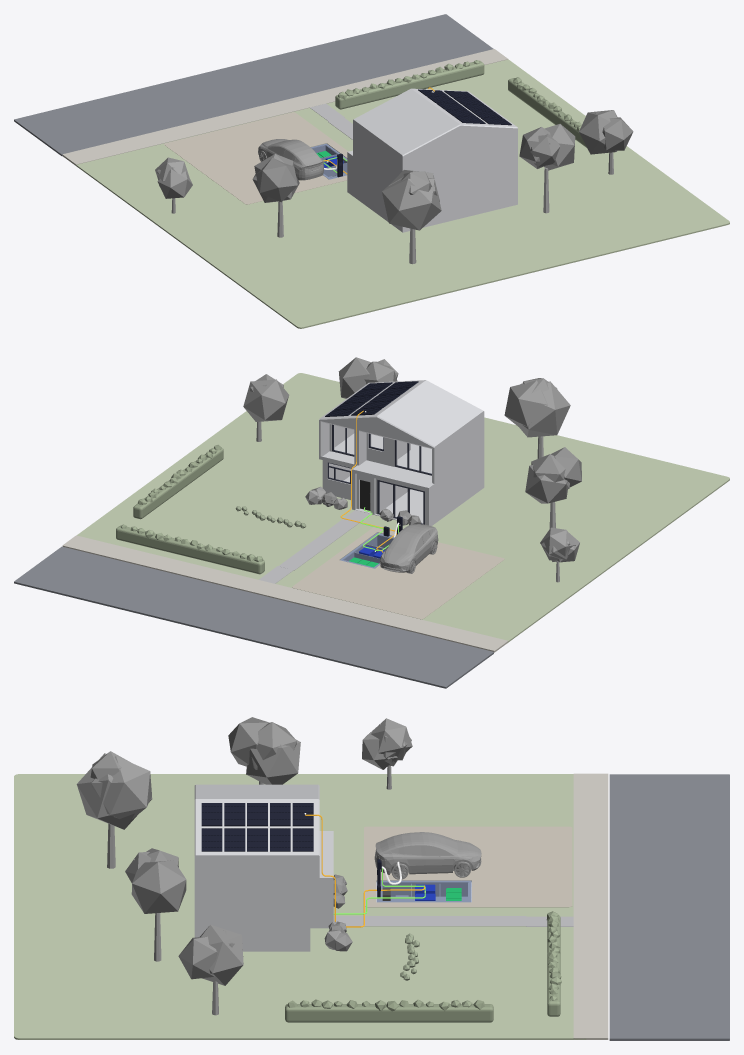
Rendered from sett-hero-particulieren.glb.
The picture shows the model from 3 angles, top to bottom: view 1: azimuth 30°, elevation 25°; view 2: azimuth 150°, elevation 25°; view 3: azimuth 270°, elevation 25°; orthographic projection. The views are drawn at different scales.
Visible parts, largest first — view 1: hero-particulieren, Muren_boven, Muren_beneden, tree_2, tree_1, tree_3, tree_0, car, tree_4; view 2: hero-particulieren, Muren_boven, Muren_beneden, tree_2, tree_0, car, tree_3, tree_1, Pathway, tree_4, Vloer; view 3: hero-particulieren, Muren_boven, Muren_beneden, tree_2, car, tree_0, tree_1, tree_3, Pathway, tree_4, BAK_met_RIBS, Extruded.016 (+4 smaller).
Part boxes in pixels (bbox=[...]): hero-particulieren: bbox=[14, 14, 729, 328]; Muren_boven: bbox=[353, 88, 517, 184]; Muren_beneden: bbox=[347, 150, 517, 232]; tree_2: bbox=[382, 170, 441, 264]; tree_1: bbox=[519, 124, 575, 213]; tree_3: bbox=[579, 110, 633, 174]; tree_0: bbox=[252, 154, 299, 237]; car: bbox=[258, 139, 323, 180]; tree_4: bbox=[155, 157, 192, 213]; hero-particulieren: bbox=[14, 373, 729, 688]; Muren_boven: bbox=[319, 380, 484, 483]; Muren_beneden: bbox=[319, 433, 484, 525]; tree_2: bbox=[504, 378, 570, 458]; tree_0: bbox=[525, 447, 581, 528]; car: bbox=[379, 524, 438, 573]; tree_3: bbox=[243, 374, 288, 441]; tree_1: bbox=[338, 357, 398, 398]; Pathway: bbox=[278, 510, 370, 570]; tree_4: bbox=[540, 527, 579, 582]; Vloer: bbox=[341, 476, 483, 525]; hero-particulieren: bbox=[14, 773, 729, 1040]; Muren_boven: bbox=[194, 784, 319, 901]; Muren_beneden: bbox=[194, 831, 333, 951]; tree_2: bbox=[76, 751, 152, 868]; car: bbox=[374, 832, 481, 879]; tree_0: bbox=[228, 717, 300, 784]; tree_1: bbox=[125, 848, 186, 961]; tree_3: bbox=[178, 924, 243, 1015]; Pathway: bbox=[333, 916, 526, 926]; tree_4: bbox=[362, 718, 412, 789]; BAK_met_RIBS: bbox=[376, 880, 471, 901]; Extruded.016: bbox=[201, 828, 222, 851].
Size of the model in its own units: 2700 by 634 by 3090.
